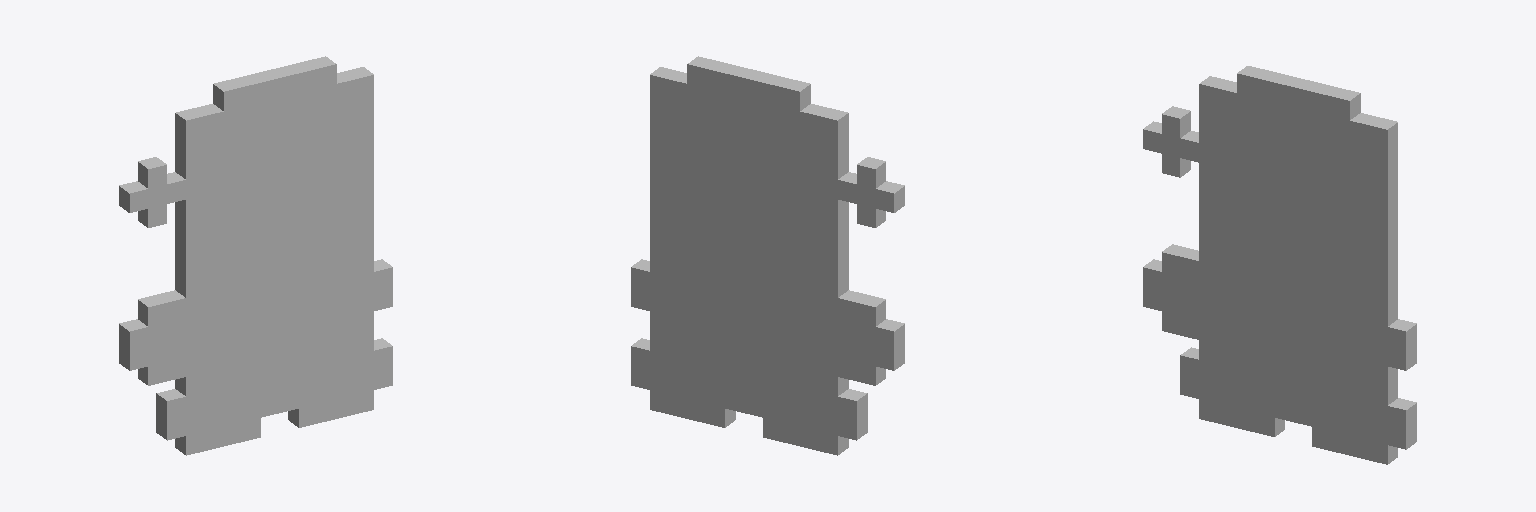
Rendered from boy throw.obj.
3 views of the same model, side by side, from view 1: azimuth 30°, elevation 25°; view 2: azimuth 150°, elevation 25°; view 3: azimuth 330°, elevation 25° (orthographic).
Parts seen in each view (by area): view 1: object 1; view 2: object 1; view 3: object 1.
Part boxes in pixels (x1,y1,x2,y2): object 1: (119,56,392,455); object 1: (631,56,904,455); object 1: (1143,66,1416,464).
Size of the model in its own units: 1.4 by 1.8 by 0.1.